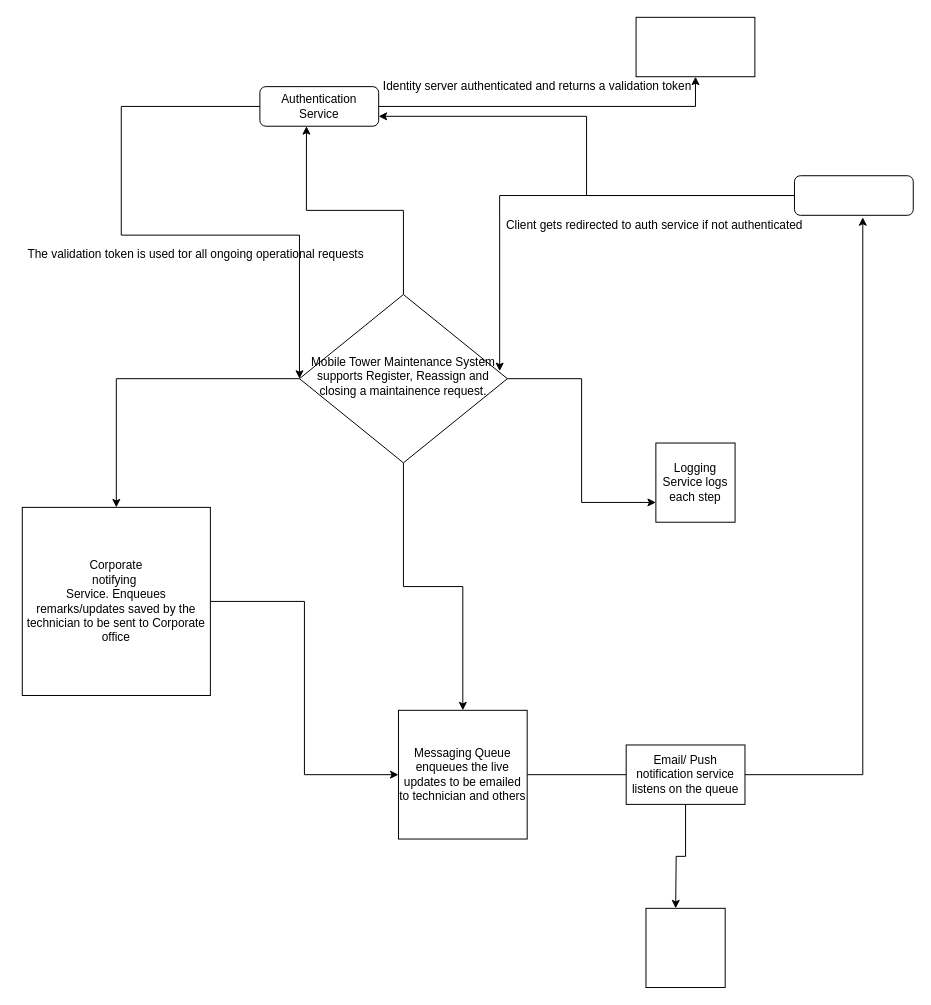
Some shapes in this 931 by 1005 pixel diagram are drawn without their labels. Each missing label, with the centre of its shape:
Client/Technician: the point at 853,195
Email out to Corporate Clients: the point at 685,947
Identity Server: the point at 695,46
